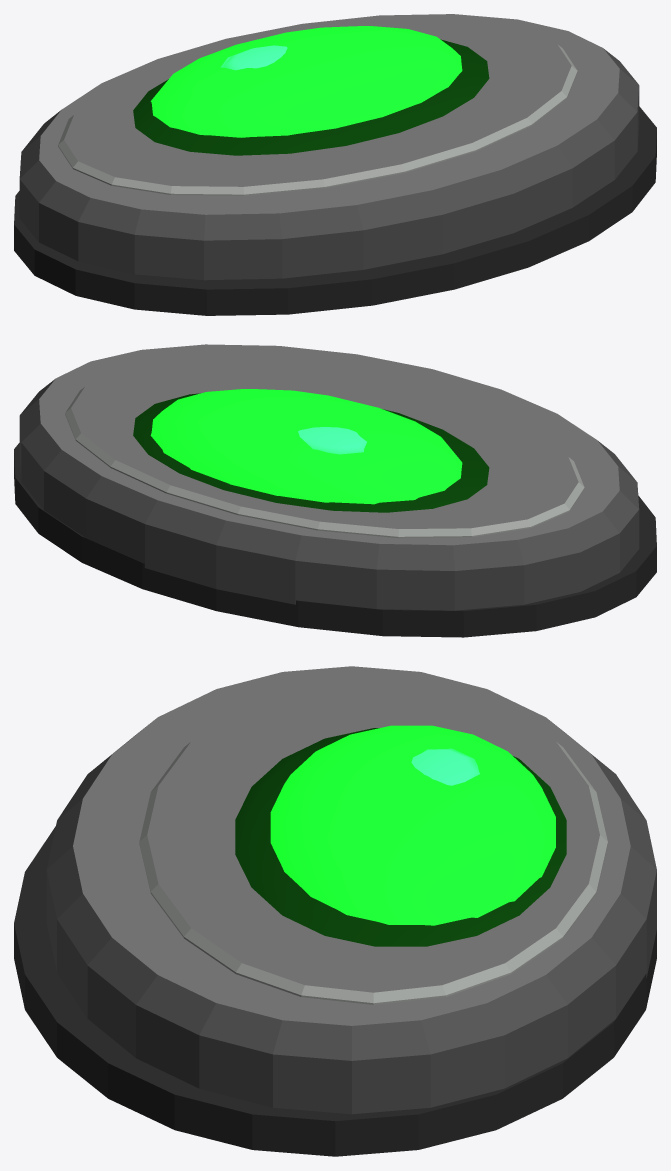
Rendered from newshj-77.glb.
3 views of the same model, one above another, from view 1: azimuth 30°, elevation 25°; view 2: azimuth 150°, elevation 25°; view 3: azimuth 270°, elevation 25° (orthographic). The views are drawn at different scales.
Visible parts, largest first — view 1: newshj-77; view 2: newshj-77; view 3: newshj-77.
Part boxes in pixels (bbox=[...]): newshj-77: bbox=[14, 14, 656, 315]; newshj-77: bbox=[14, 344, 656, 637]; newshj-77: bbox=[14, 666, 656, 1156].
Size of the model in its own units: 1.43 by 0.29 by 0.9833.
